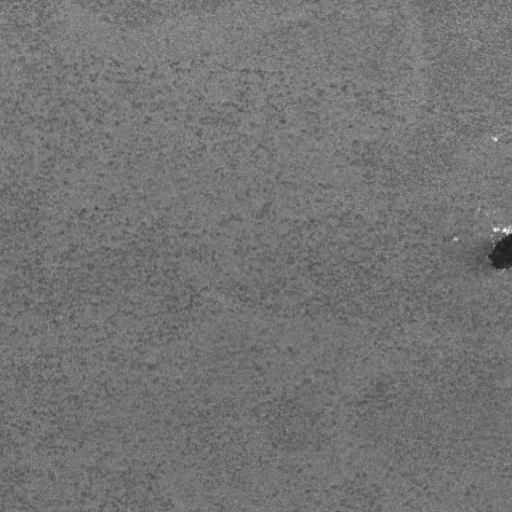aokeng: (487, 229, 512, 274)
